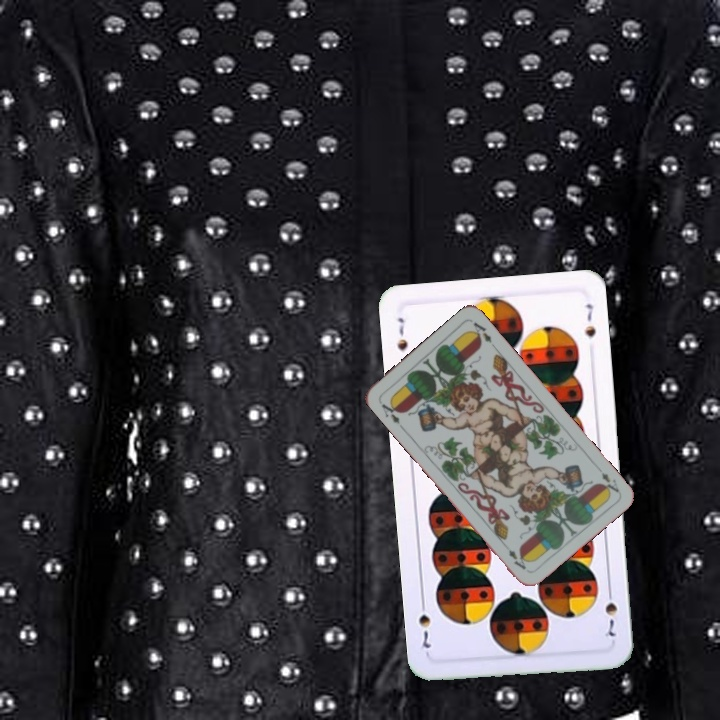EA: (377, 397, 403, 427), (596, 468, 622, 497)
S7: (601, 583, 620, 639), (393, 313, 410, 354)
